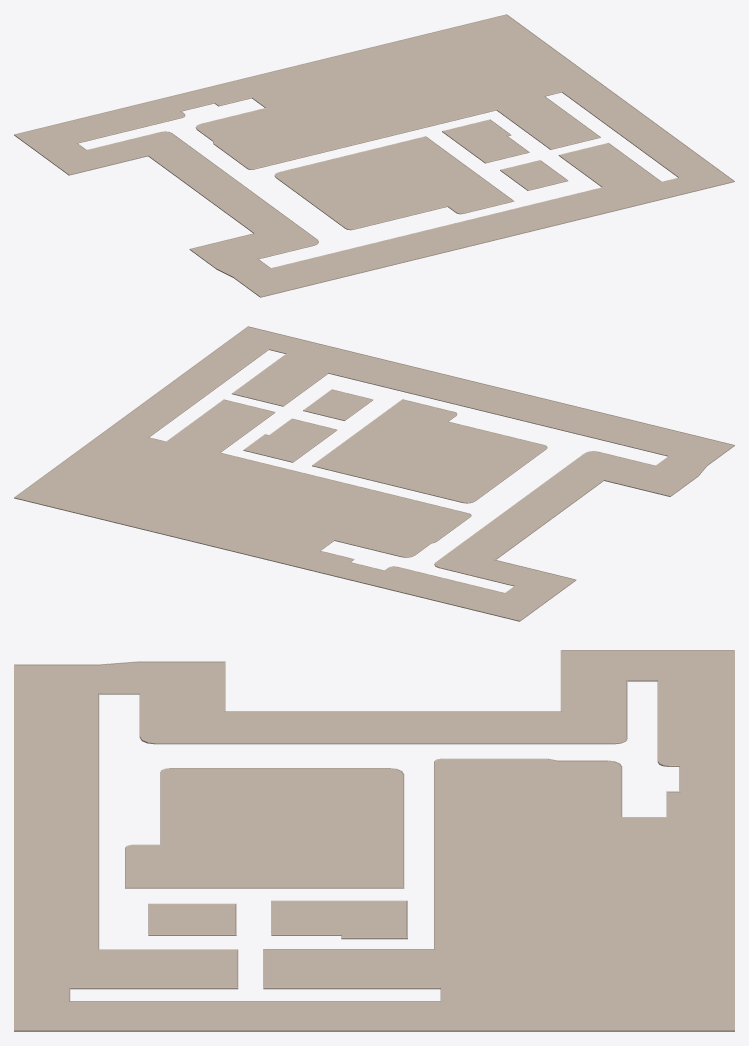
File: suelo_tienda_acera.fbx
3 renders of one model, top to bottom at view 1: azimuth 30°, elevation 25°; view 2: azimuth 150°, elevation 25°; view 3: azimuth 270°, elevation 25°, orthographic. The views are drawn at different scales.
Parts seen in each view (by area): view 1: pCube177; view 2: pCube177; view 3: pCube177.
Part boxes in pixels (<box>): pCube177: <box>14,14,734,297</box>; pCube177: <box>14,326,734,621</box>; pCube177: <box>14,650,734,1031</box>.
Bounding box in the file's own units: 171 × 0.3 × 137.
